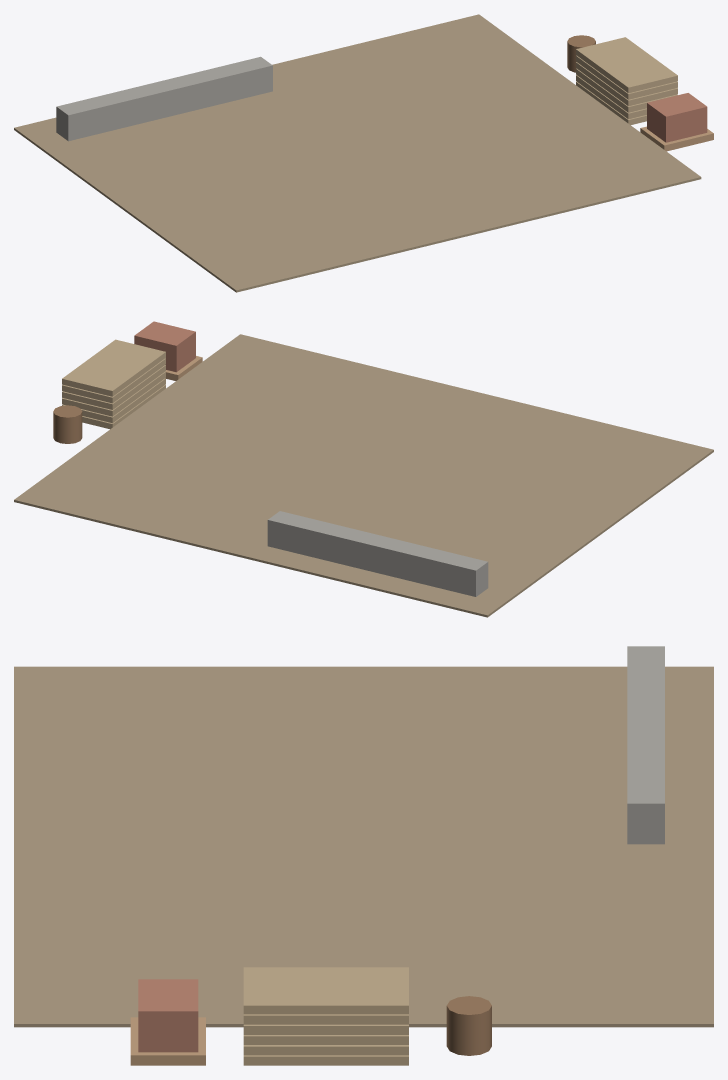
File: horse_stable_site_1.glb
The picture shows the model from 3 angles, top to bottom: view 1: azimuth 30°, elevation 25°; view 2: azimuth 150°, elevation 25°; view 3: azimuth 270°, elevation 25°; orthographic projection. The views are drawn at different scales.
Visible parts, largest first — view 1: body; view 2: body; view 3: body.
Part boxes in pixels (<box>): body: <box>14,14,713,292</box>; body: <box>14,321,713,617</box>; body: <box>14,646,713,1065</box>.
Bounding box in the file's own units: 2.49 × 0.176 × 1.86.
